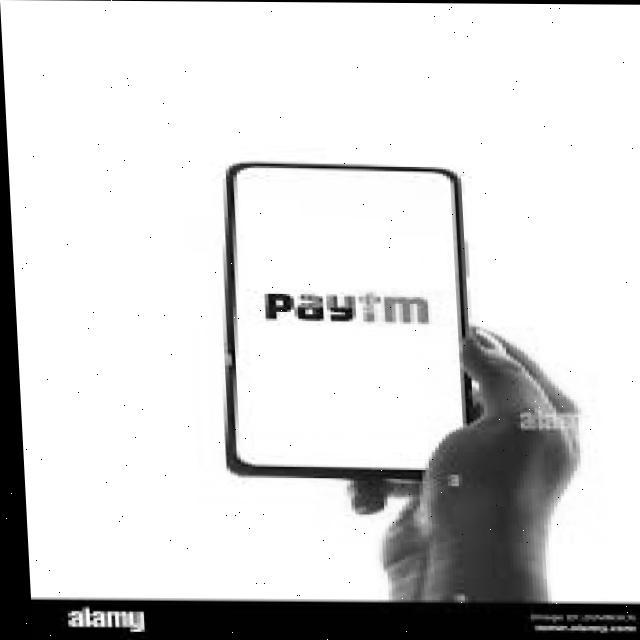fully_visible: (243, 270, 447, 344)
